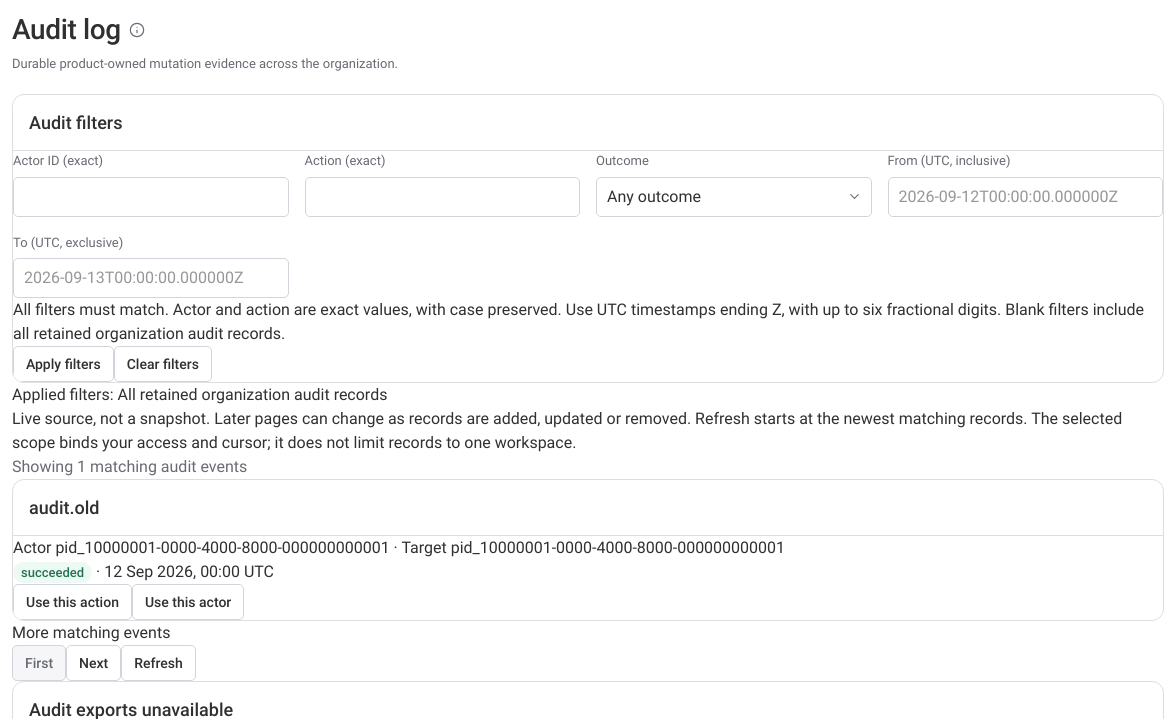
bounded audit browsing › clears old results on Apply, aborts the old read, and ignores a late response
This screenshot has width=1176, height=719.
Expected: the heading "audit.old" is shown, [29, 496, 100, 520]
Click the button "Next" at (94, 663), box [66, 645, 121, 681]
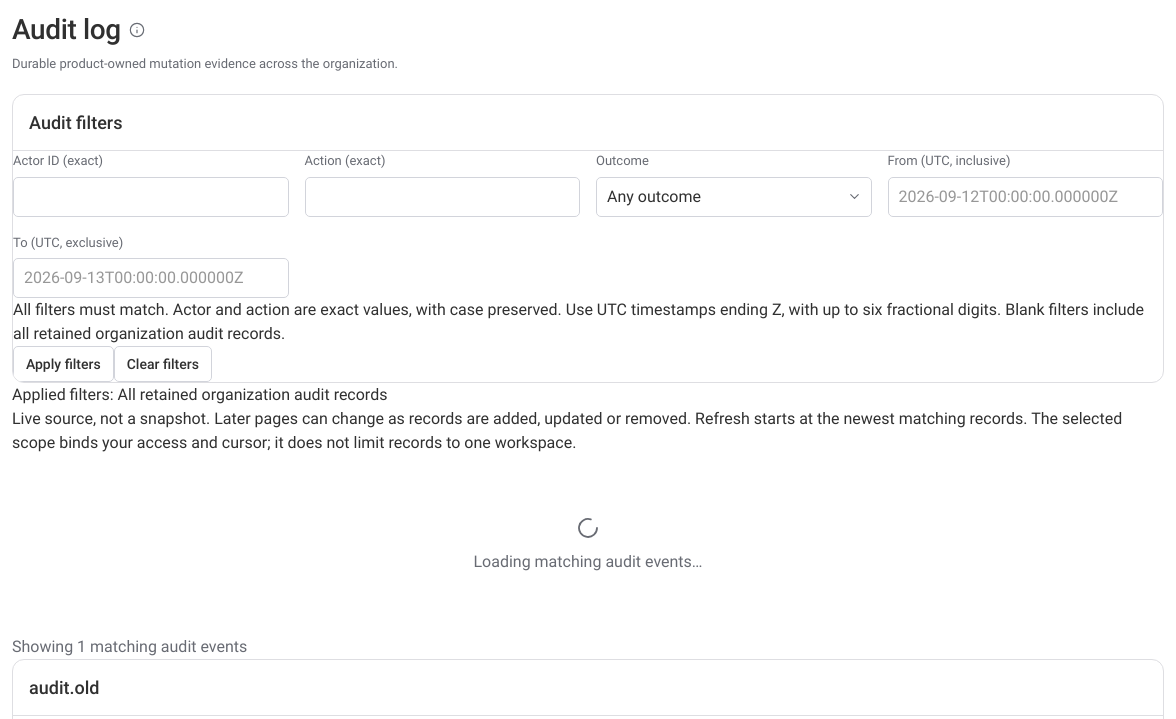
Type "audit.new" into the field labelled "Action (exact)" at (442, 196), box [304, 176, 580, 216]
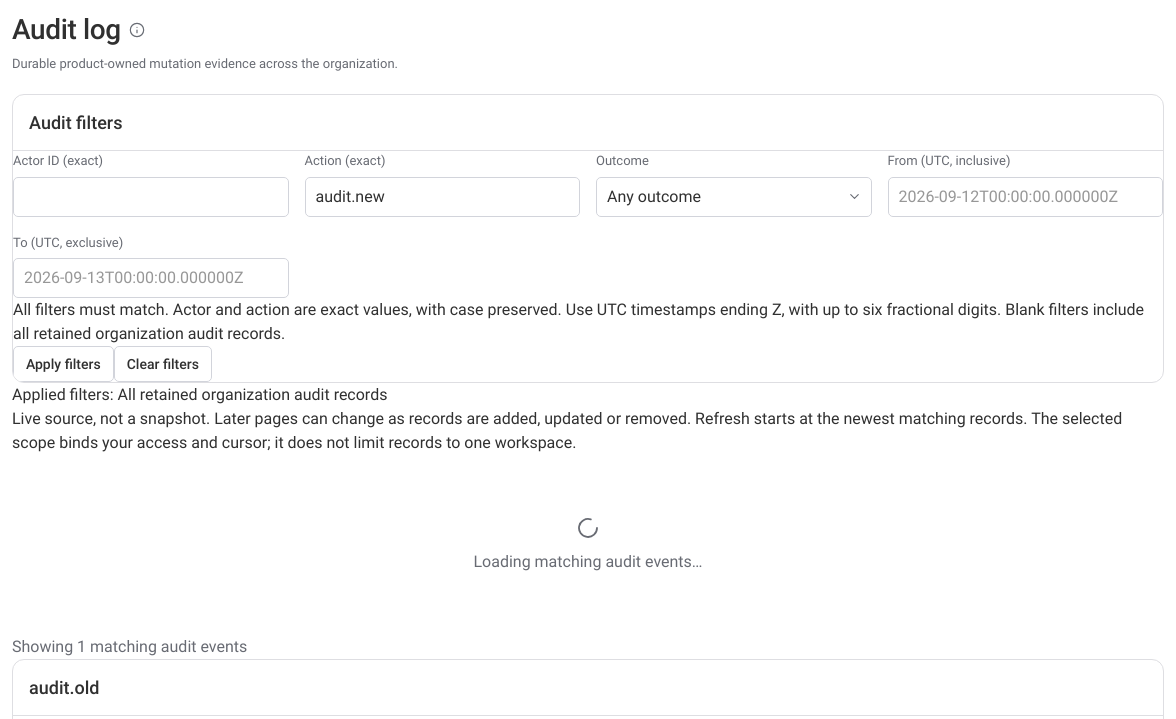
Click the button "Apply filters" at (63, 364), box [13, 346, 114, 382]
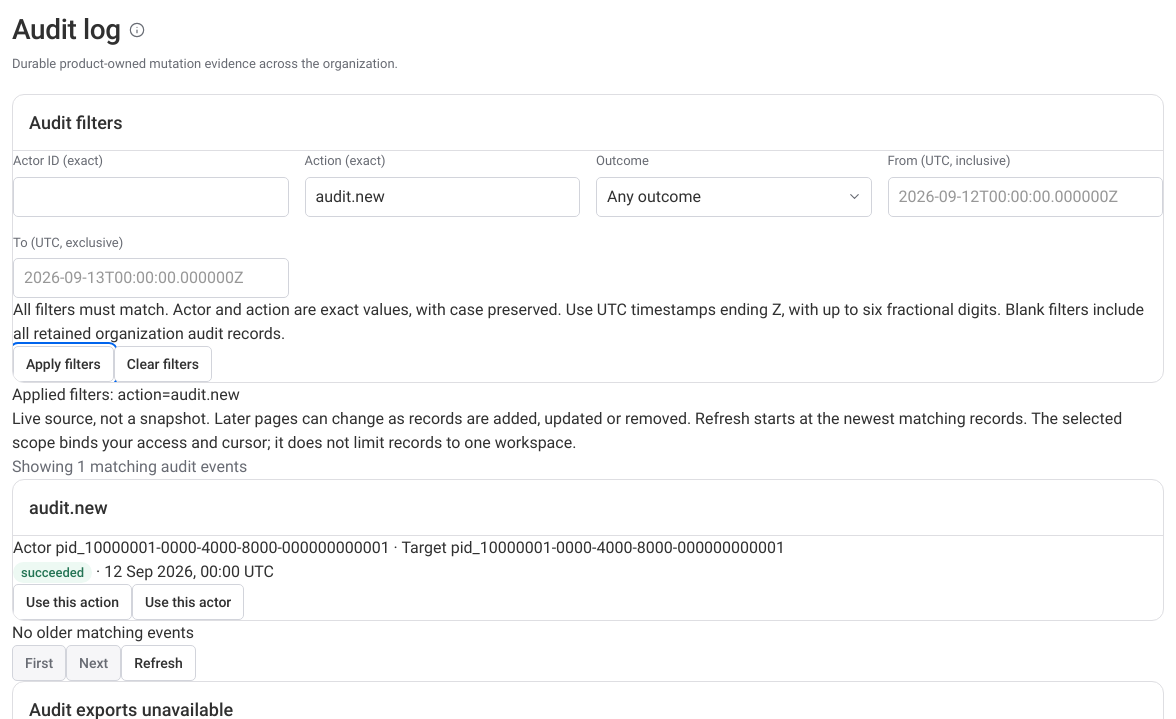
Expected: the heading "audit.old" is gone
Expected: the heading "audit.new" is shown, [29, 496, 108, 520]
